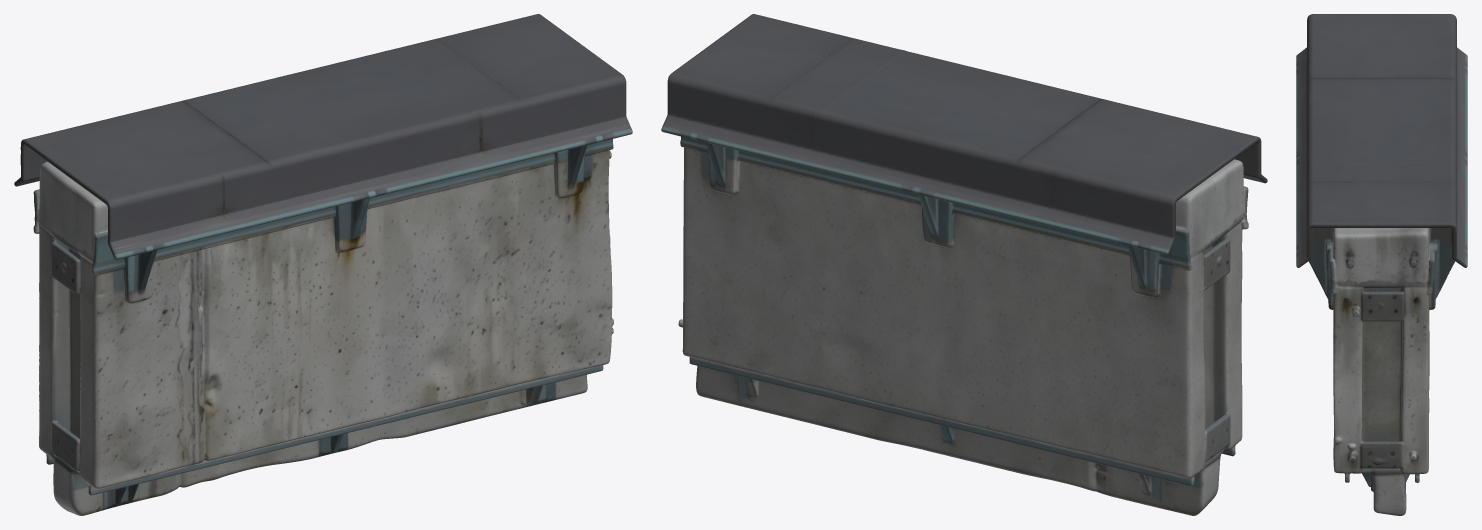
Rendered from concrete block 3d model.glb.
The picture shows the model from 3 angles, left to right: view 1: azimuth 30°, elevation 25°; view 2: azimuth 150°, elevation 25°; view 3: azimuth 270°, elevation 25°; orthographic projection. The views are drawn at different scales.
Visible parts, largest first — view 1: tripo_node_7e9958c5-e54a-4b2a-951b-264258f38bb9; view 2: tripo_node_7e9958c5-e54a-4b2a-951b-264258f38bb9; view 3: tripo_node_7e9958c5-e54a-4b2a-951b-264258f38bb9.
Boxes of the visible parts, bbox=[...] form: tripo_node_7e9958c5-e54a-4b2a-951b-264258f38bb9: bbox=[14, 14, 632, 515]; tripo_node_7e9958c5-e54a-4b2a-951b-264258f38bb9: bbox=[661, 14, 1267, 515]; tripo_node_7e9958c5-e54a-4b2a-951b-264258f38bb9: bbox=[1296, 14, 1467, 515].
Size of the model in its own units: 1 by 0.6306 by 0.3342.
Materials: 1 (1 with a texture image).
